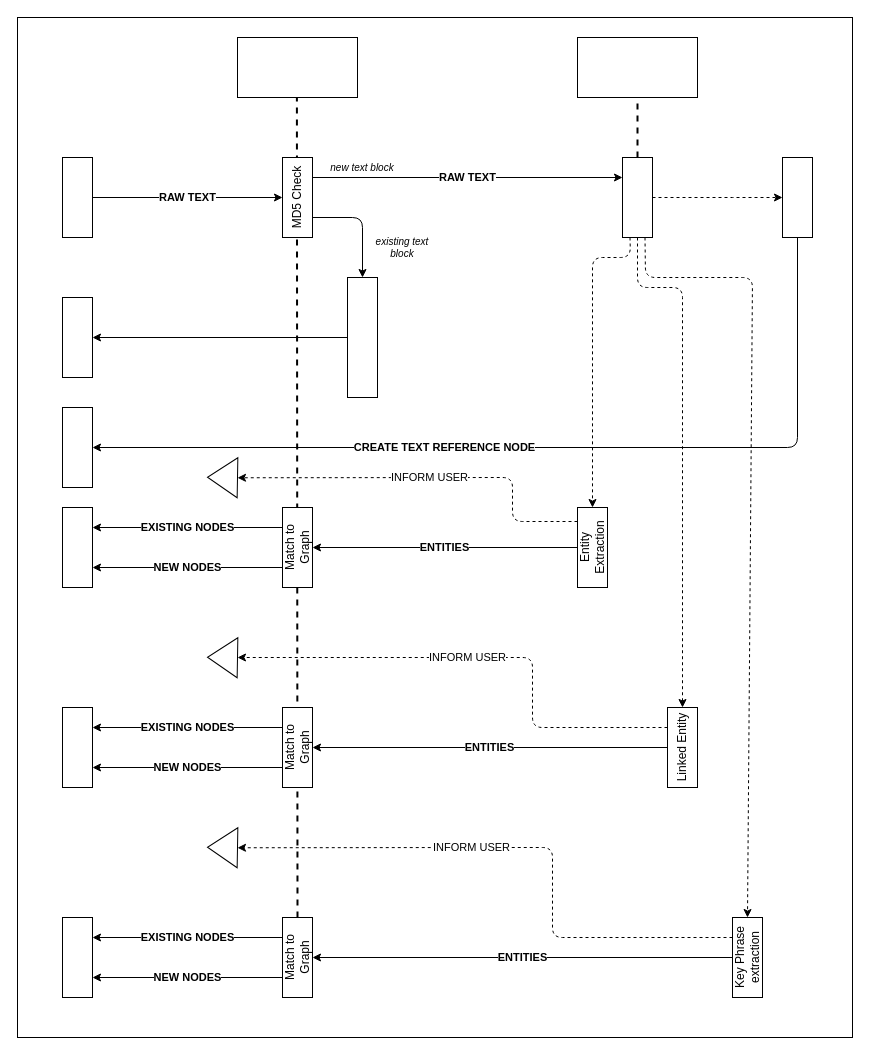
This 870x1055 diagram has some shape labels left out. Each missing label, with the centre of its shape:
":Azure" goes at point 637,67.
":Digital Explorer" goes at point 297,67.
"raw text store" goes at point 797,197.
"Retrieve existing subGraph" goes at point 362,337.
